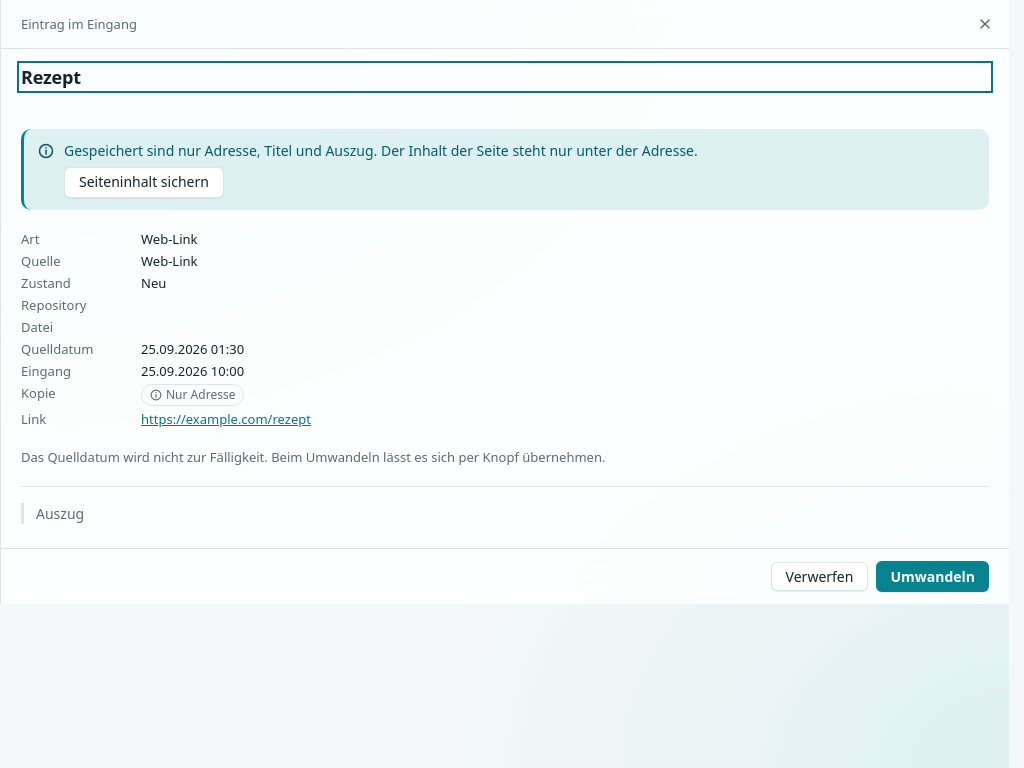
Scenario: inbox panel: copy and linking (ADR-0031) › saves the page of a web link and then shows its text and file (ADR-0031 section 6)
expect the heading "Rezept" is shown: met, box [21,65,81,89]
Click the button "Seiteninhalt sichern" at (144, 182), box [64,167,224,198]
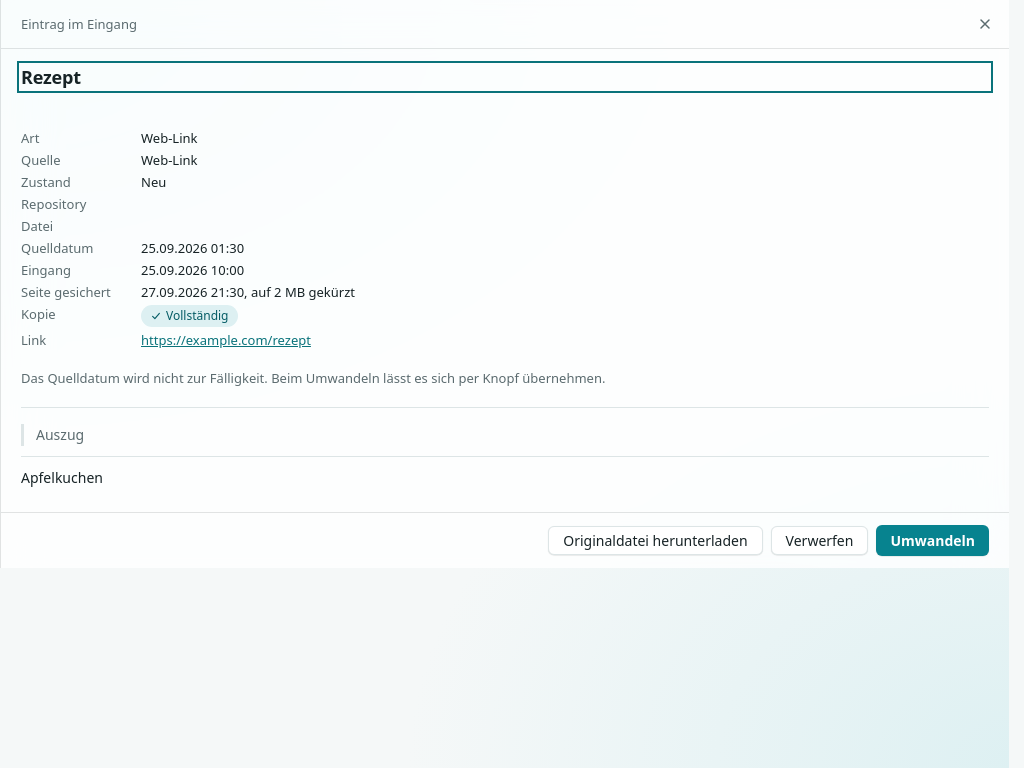
expect the text "Vollständig" is shown: met, box [166,306,228,326]
expect the text "Apfelkuchen" is shown: met, box [21,468,103,487]
expect the text "27.09.2026 21:30, auf 2 MB gekürzt" is shown: met, box [141,283,355,301]
